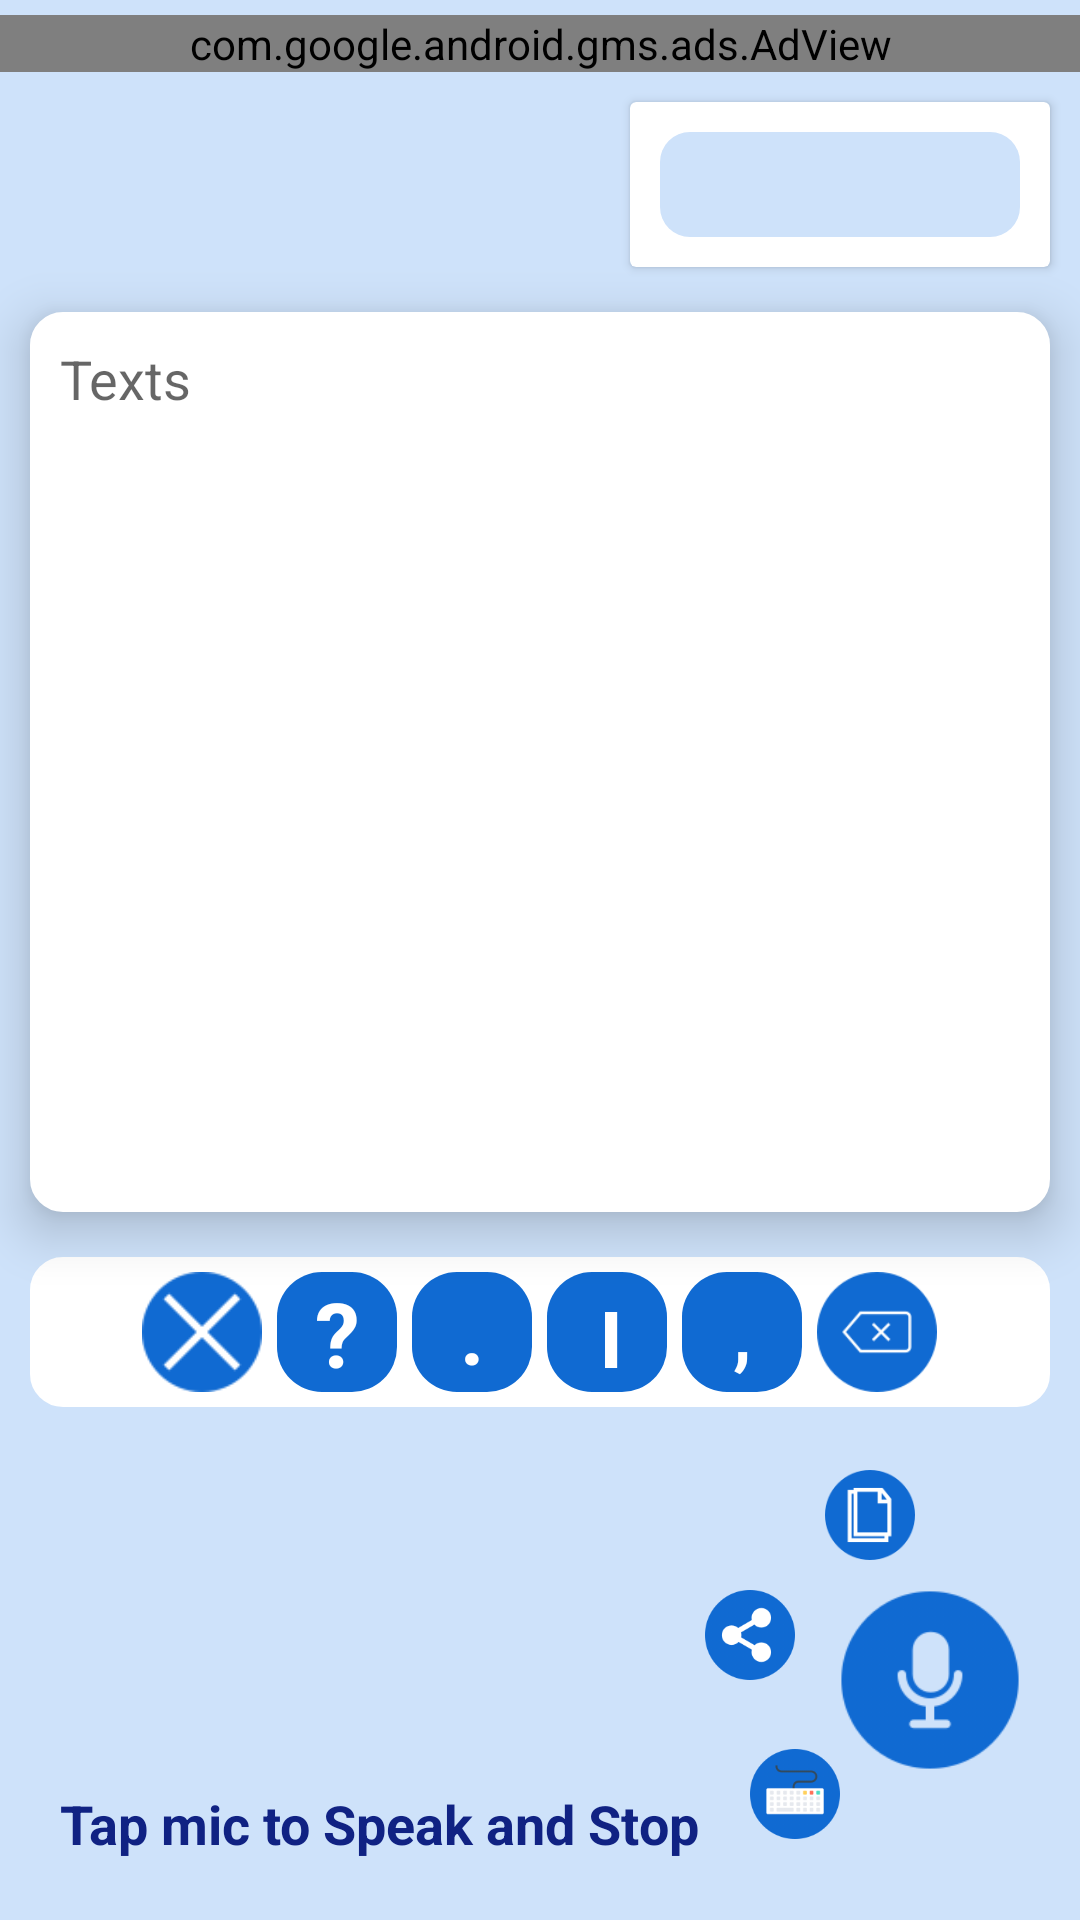

Named icons in this screenshot (1080x1920) and their bounding boxes, (x1, y1, x2, y2):
characterremove: (817, 1272, 937, 1392)
copyicon: (825, 1470, 915, 1560)
keyboardicon: (750, 1749, 840, 1839)
microphone: (841, 1591, 1019, 1769)
remove: (142, 1272, 262, 1392)
shareicon: (705, 1590, 795, 1680)
